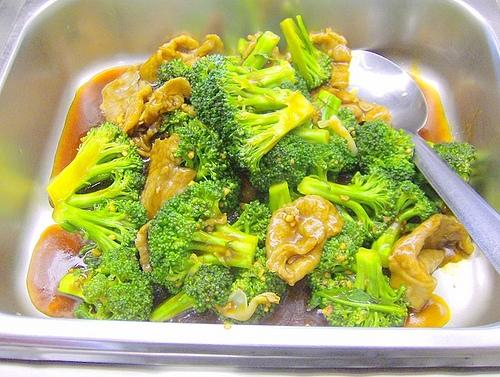broccoli: (190, 69, 315, 175), (147, 180, 259, 296), (46, 122, 146, 209), (306, 247, 411, 327), (56, 247, 155, 322), (371, 180, 436, 268), (150, 264, 233, 322), (230, 246, 288, 324), (348, 119, 417, 182), (412, 140, 480, 203), (173, 116, 235, 183), (280, 15, 333, 91), (250, 134, 310, 192), (316, 201, 365, 272), (238, 52, 296, 88), (231, 200, 272, 245), (241, 31, 280, 70), (308, 143, 344, 181), (156, 57, 192, 86), (268, 181, 292, 212), (237, 38, 248, 60)
